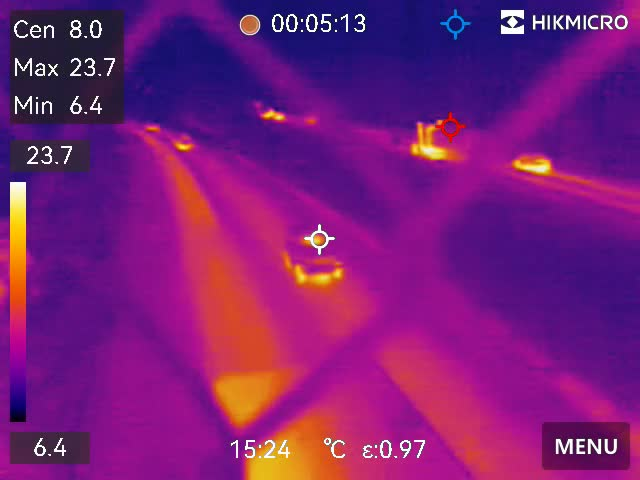heavyTruck: (406, 115, 481, 170)
